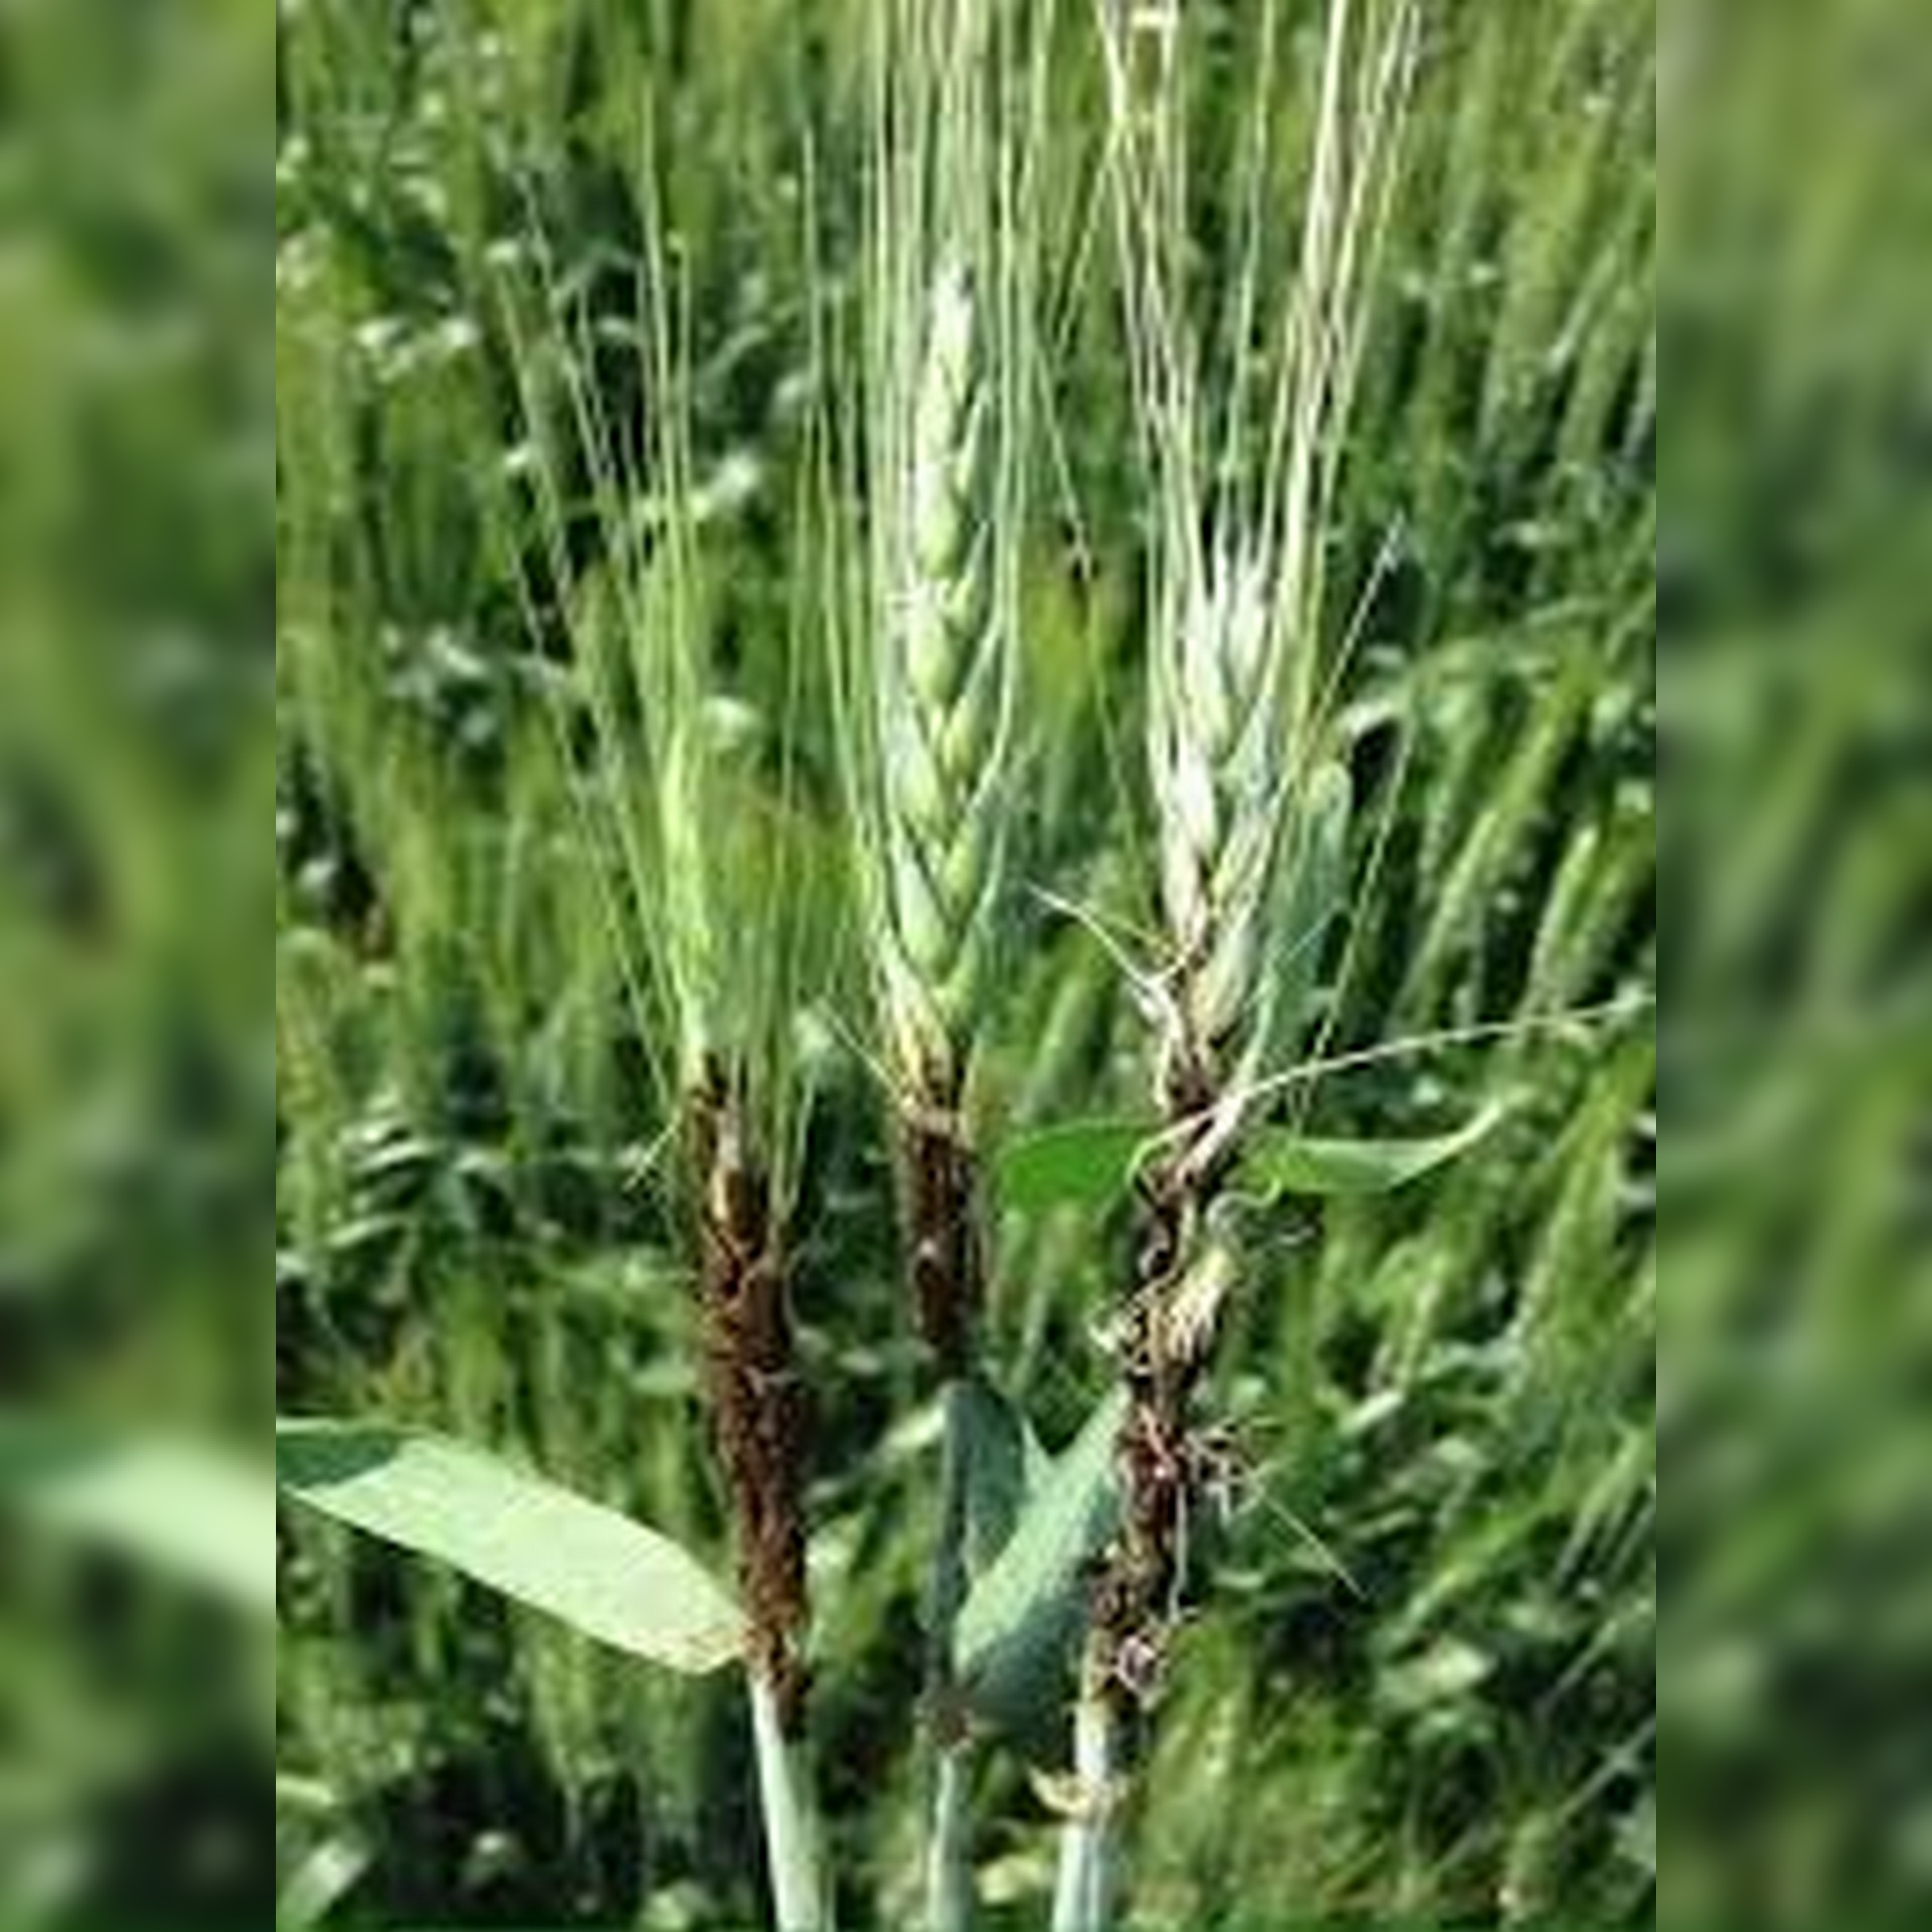Wheat Loose Smut: (639, 1060, 1309, 1730)
